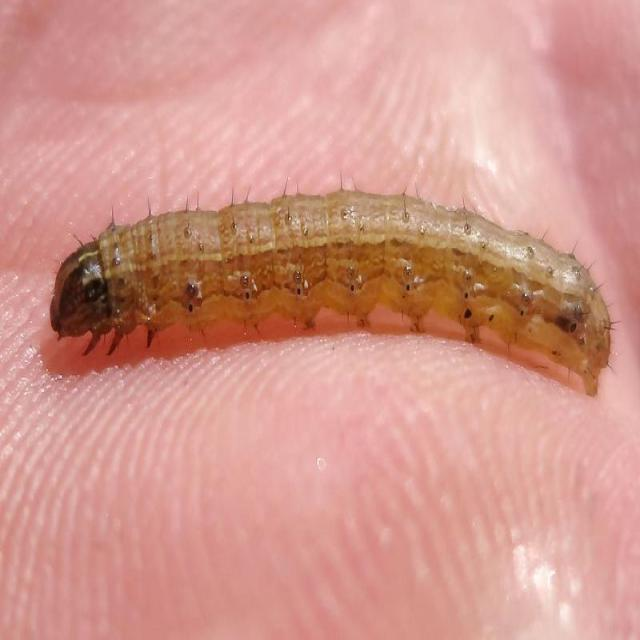yellow-stem-borer-larva: (25, 178, 621, 417)
